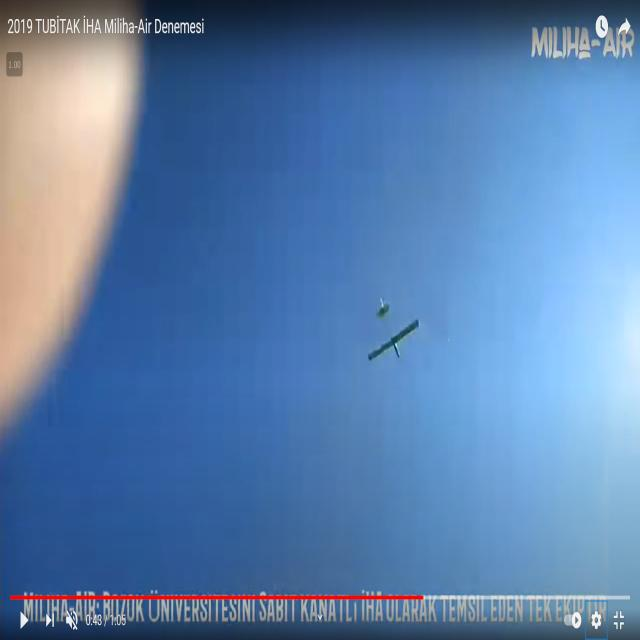iha: (361, 321, 414, 326)
